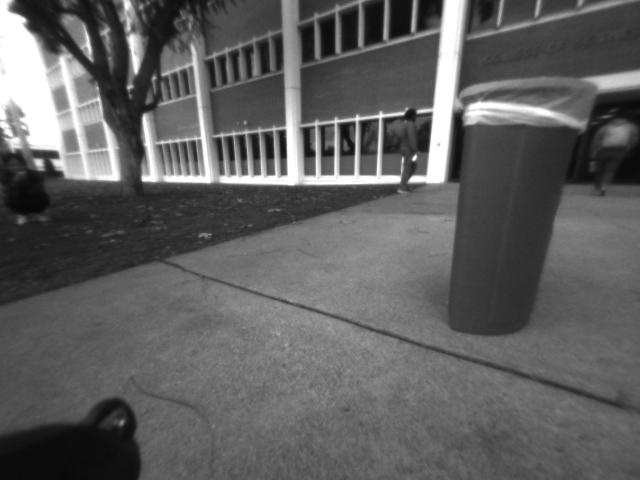trashcan_open: (440, 68, 601, 347)
